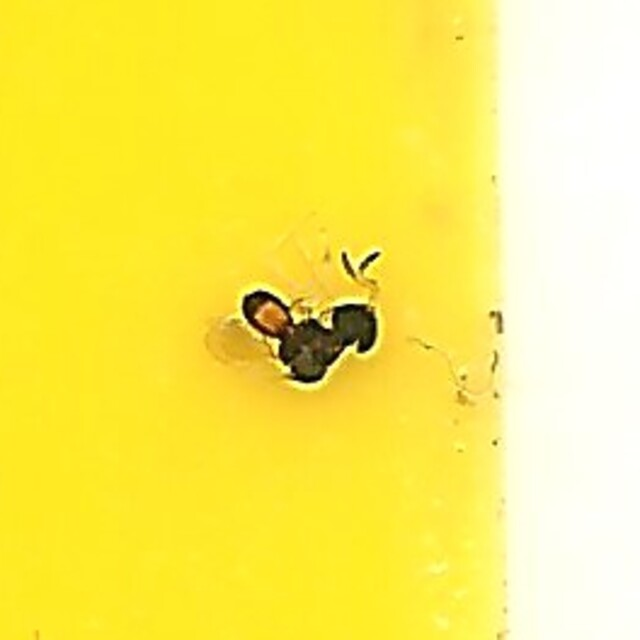Hymenoptera: (242, 247, 398, 393)
